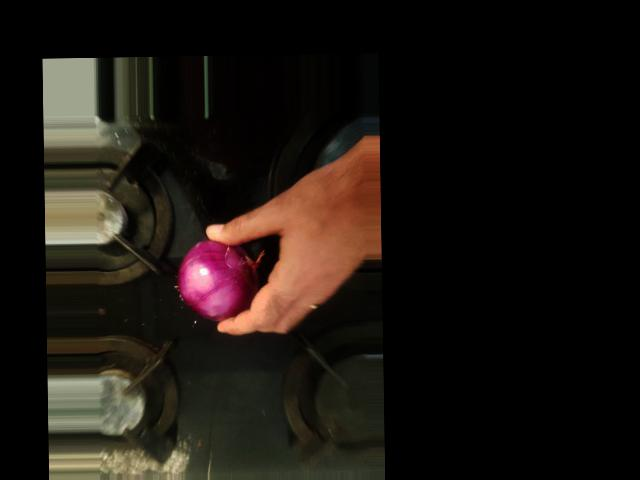onion: (128, 312, 219, 394)
